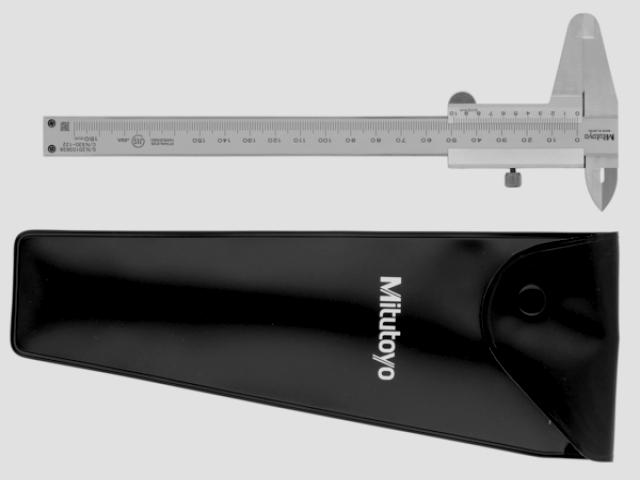Calipers: (44, 13, 618, 210)
